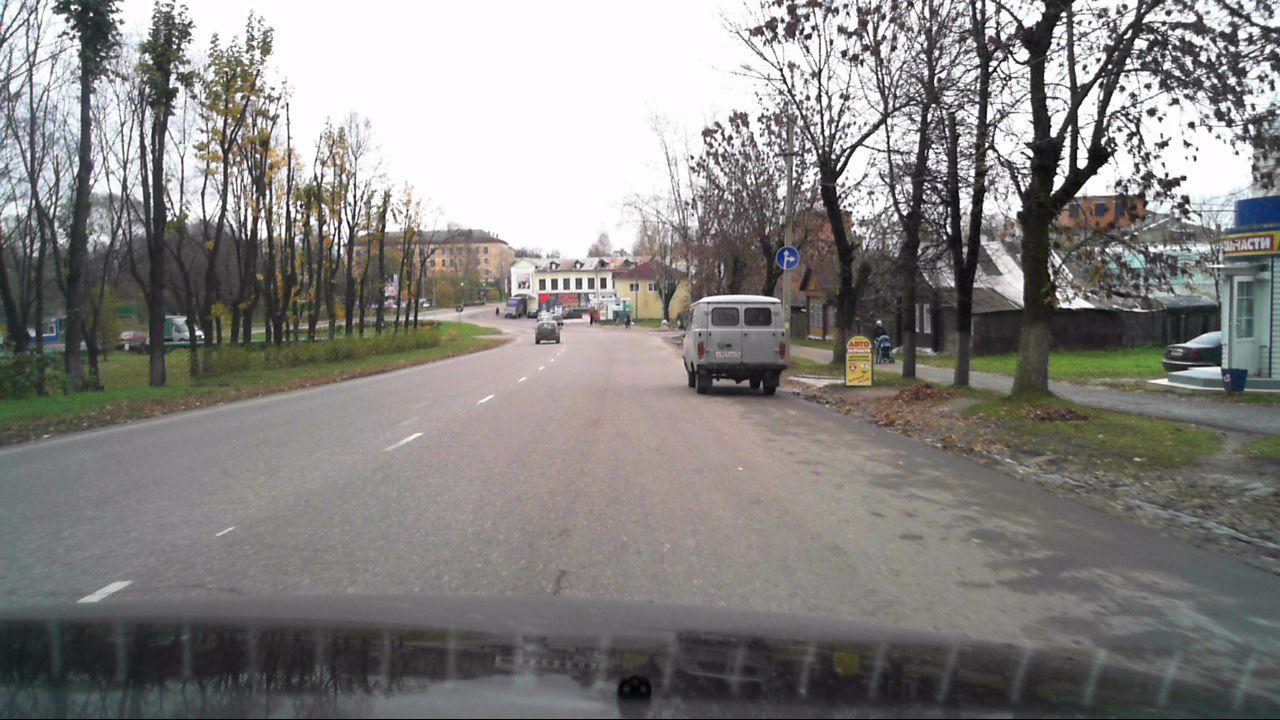road_sign: (775, 245, 799, 271)
